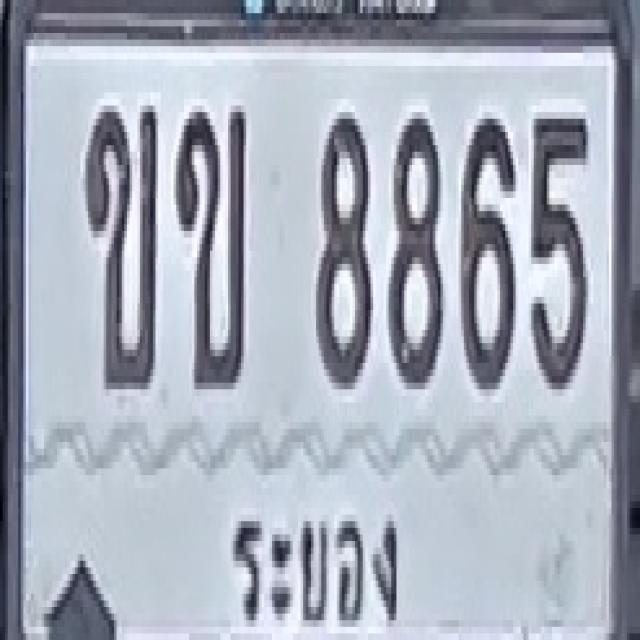5: (530, 112, 587, 389)
6: (460, 112, 514, 389)
8: (316, 112, 371, 383), (387, 112, 442, 383)
A02: (84, 102, 157, 386), (174, 102, 246, 386)
RYG: (219, 484, 417, 640)
